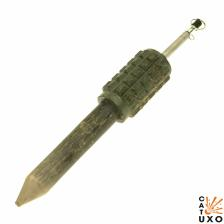POMZ2: (15, 11, 194, 215)
